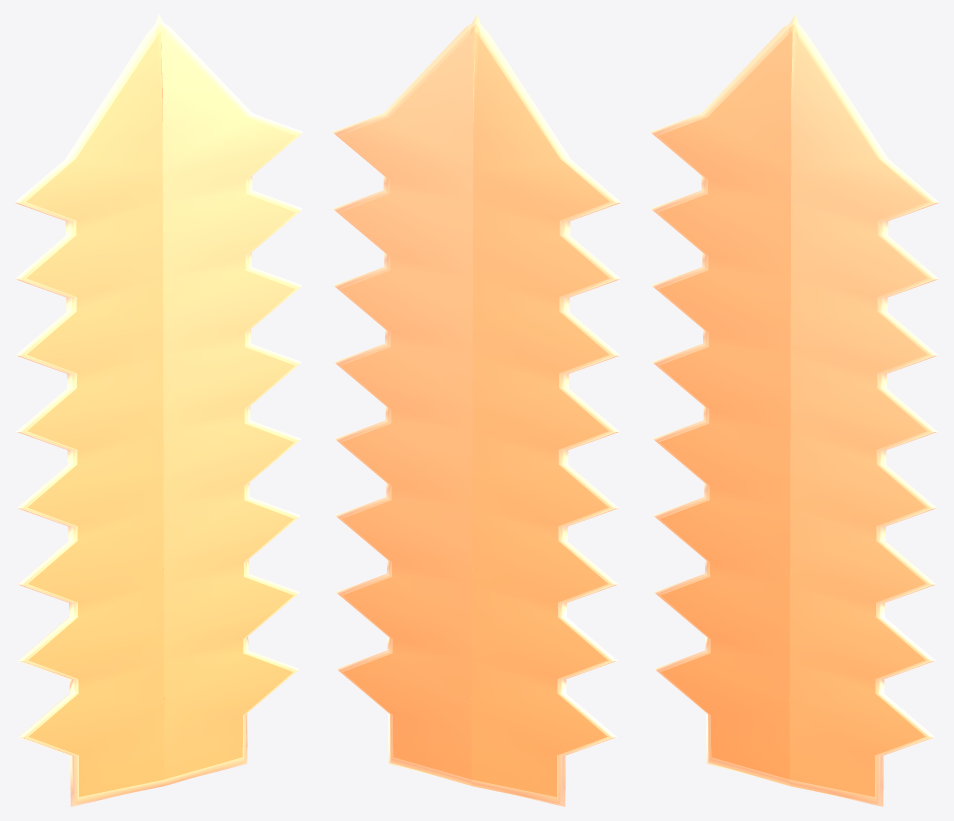
File: wood_blade (14).glb
3 renders of one model, left to right at view 1: azimuth 30°, elevation 25°; view 2: azimuth 150°, elevation 25°; view 3: azimuth 330°, elevation 25°, orthographic.
Parts seen in each view (by area): view 1: wood_blade_steel.072; view 2: wood_blade_steel.072; view 3: wood_blade_steel.072.
Part boxes in pixels (left/top/right/bottom): wood_blade_steel.072: left=14, top=14, right=303, bottom=806; wood_blade_steel.072: left=332, top=14, right=621, bottom=806; wood_blade_steel.072: left=650, top=14, right=939, bottom=806.
Size of the model in its own units: 4.48 by 11.41 by 0.2879.
1 material, 1 textured.
